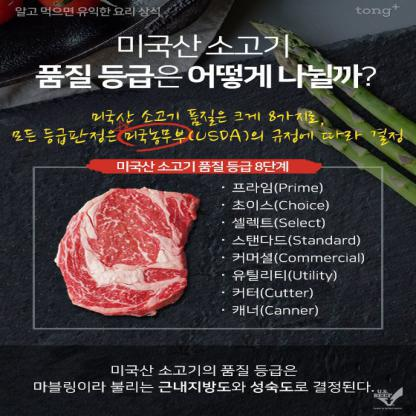beef: (76, 188, 194, 312)
